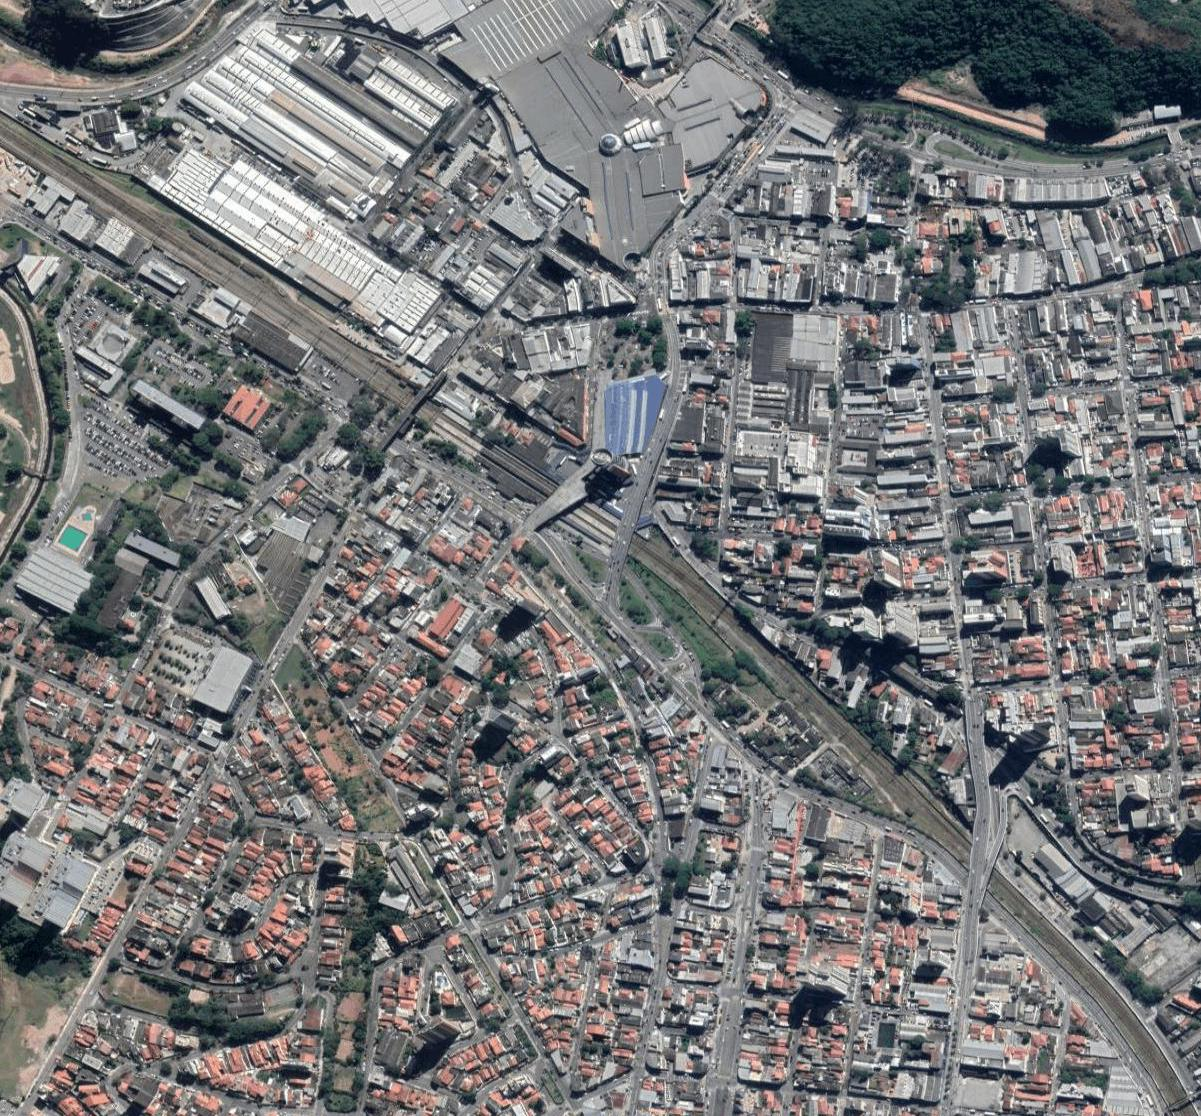train_station: (457, 426, 626, 550)
